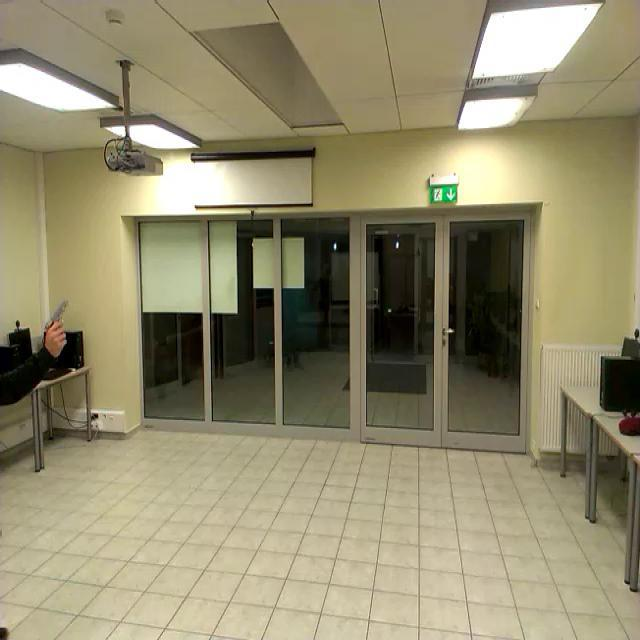Gun: (46, 298, 68, 342)
